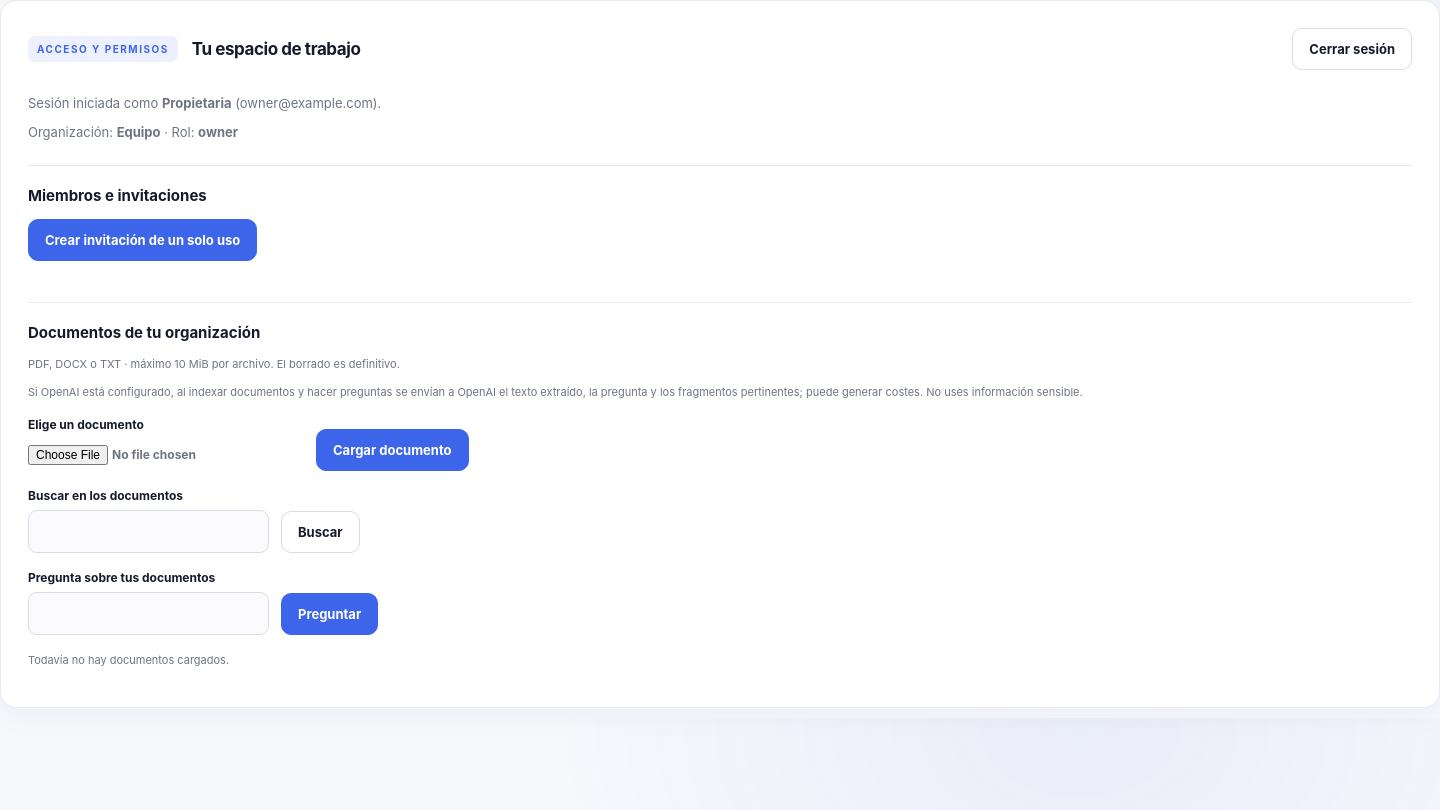
Test: AuthPanel › searches extracted text and displays organization-scoped results
Type "contrato" into the search field labelled "Buscar en los documentos". click: (148, 532)
box: [28,510,269,553]
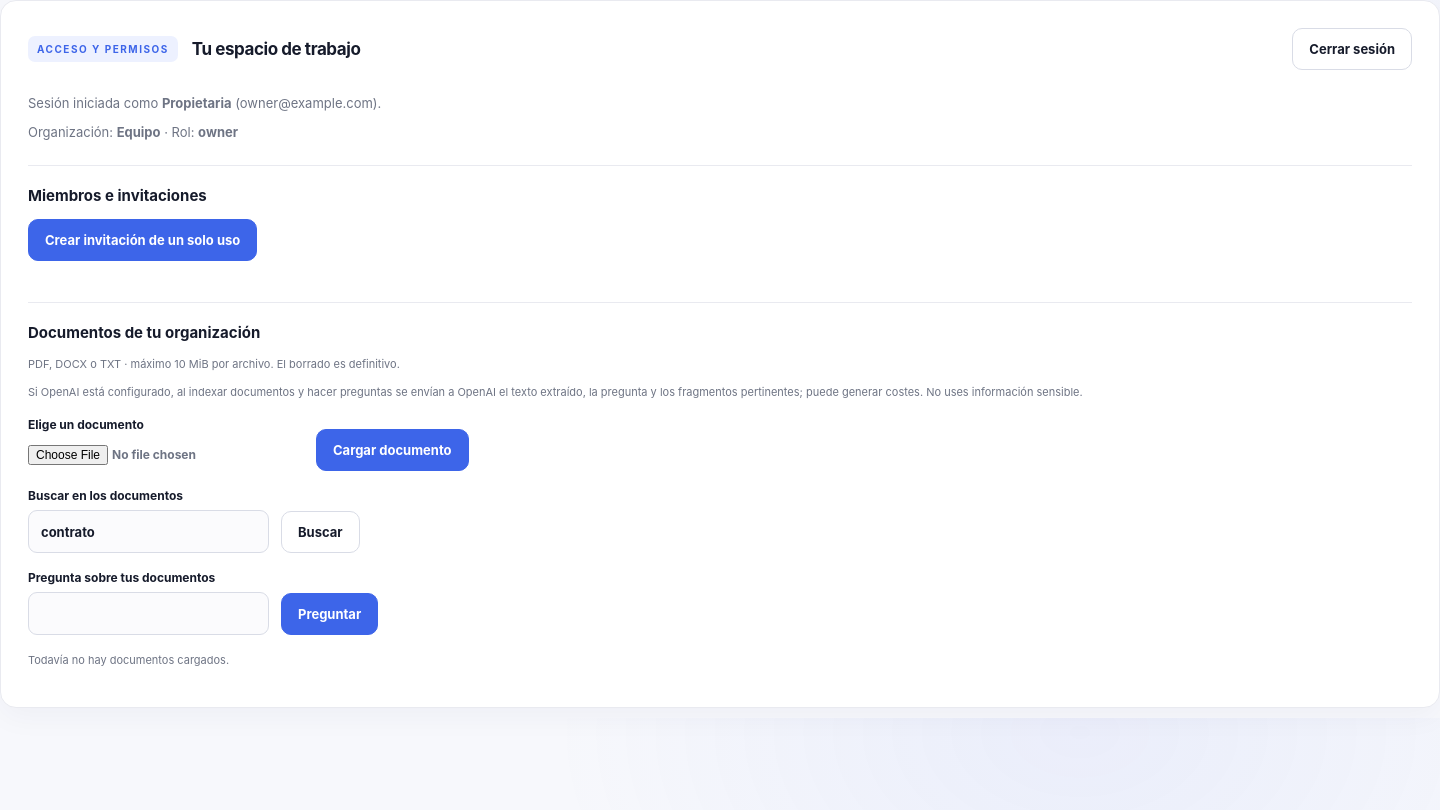
Submit the form "Buscar", box [28,488,360,553]
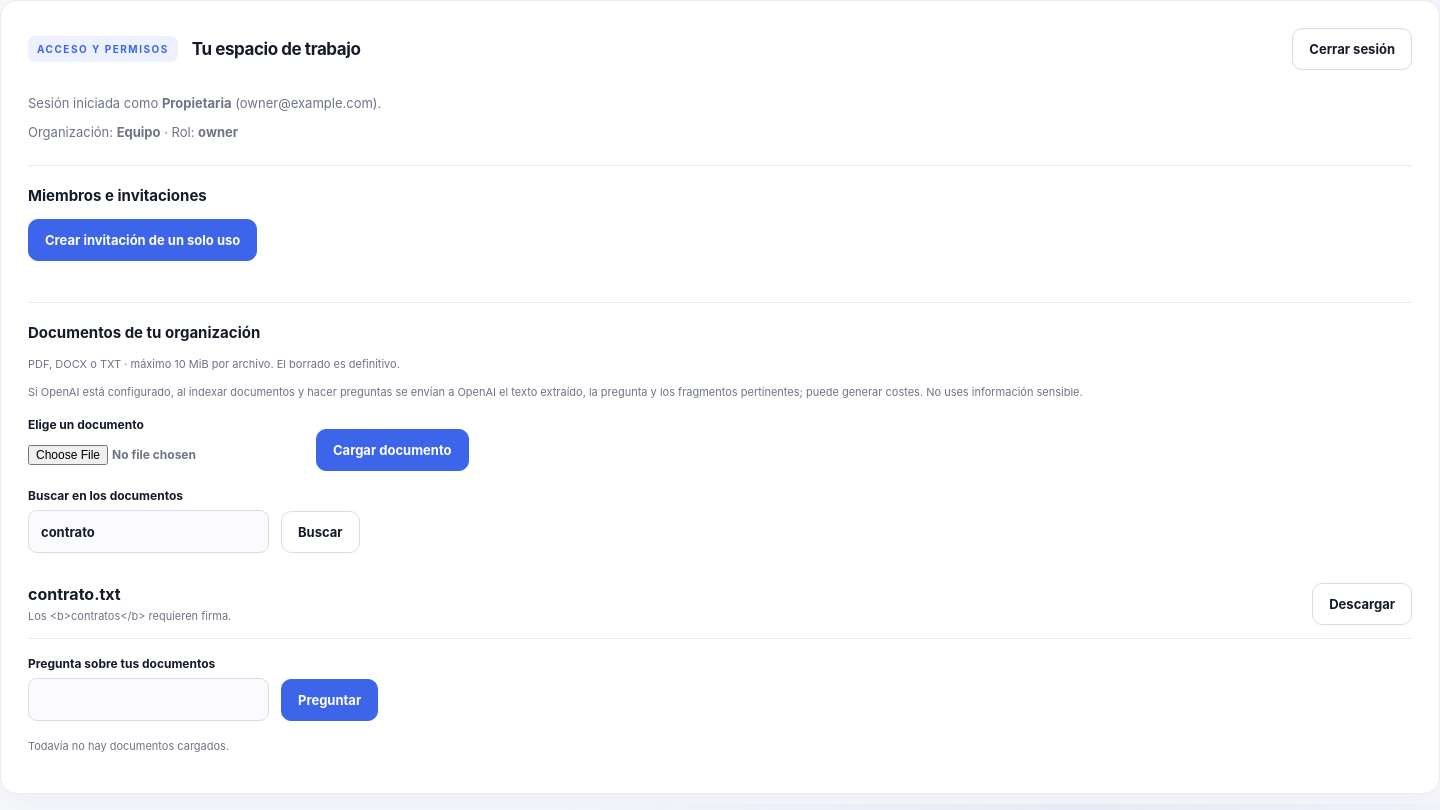
Check: the text "Los <b>contratos</b> requieren firma." is shown, box [28,609,231,623]
